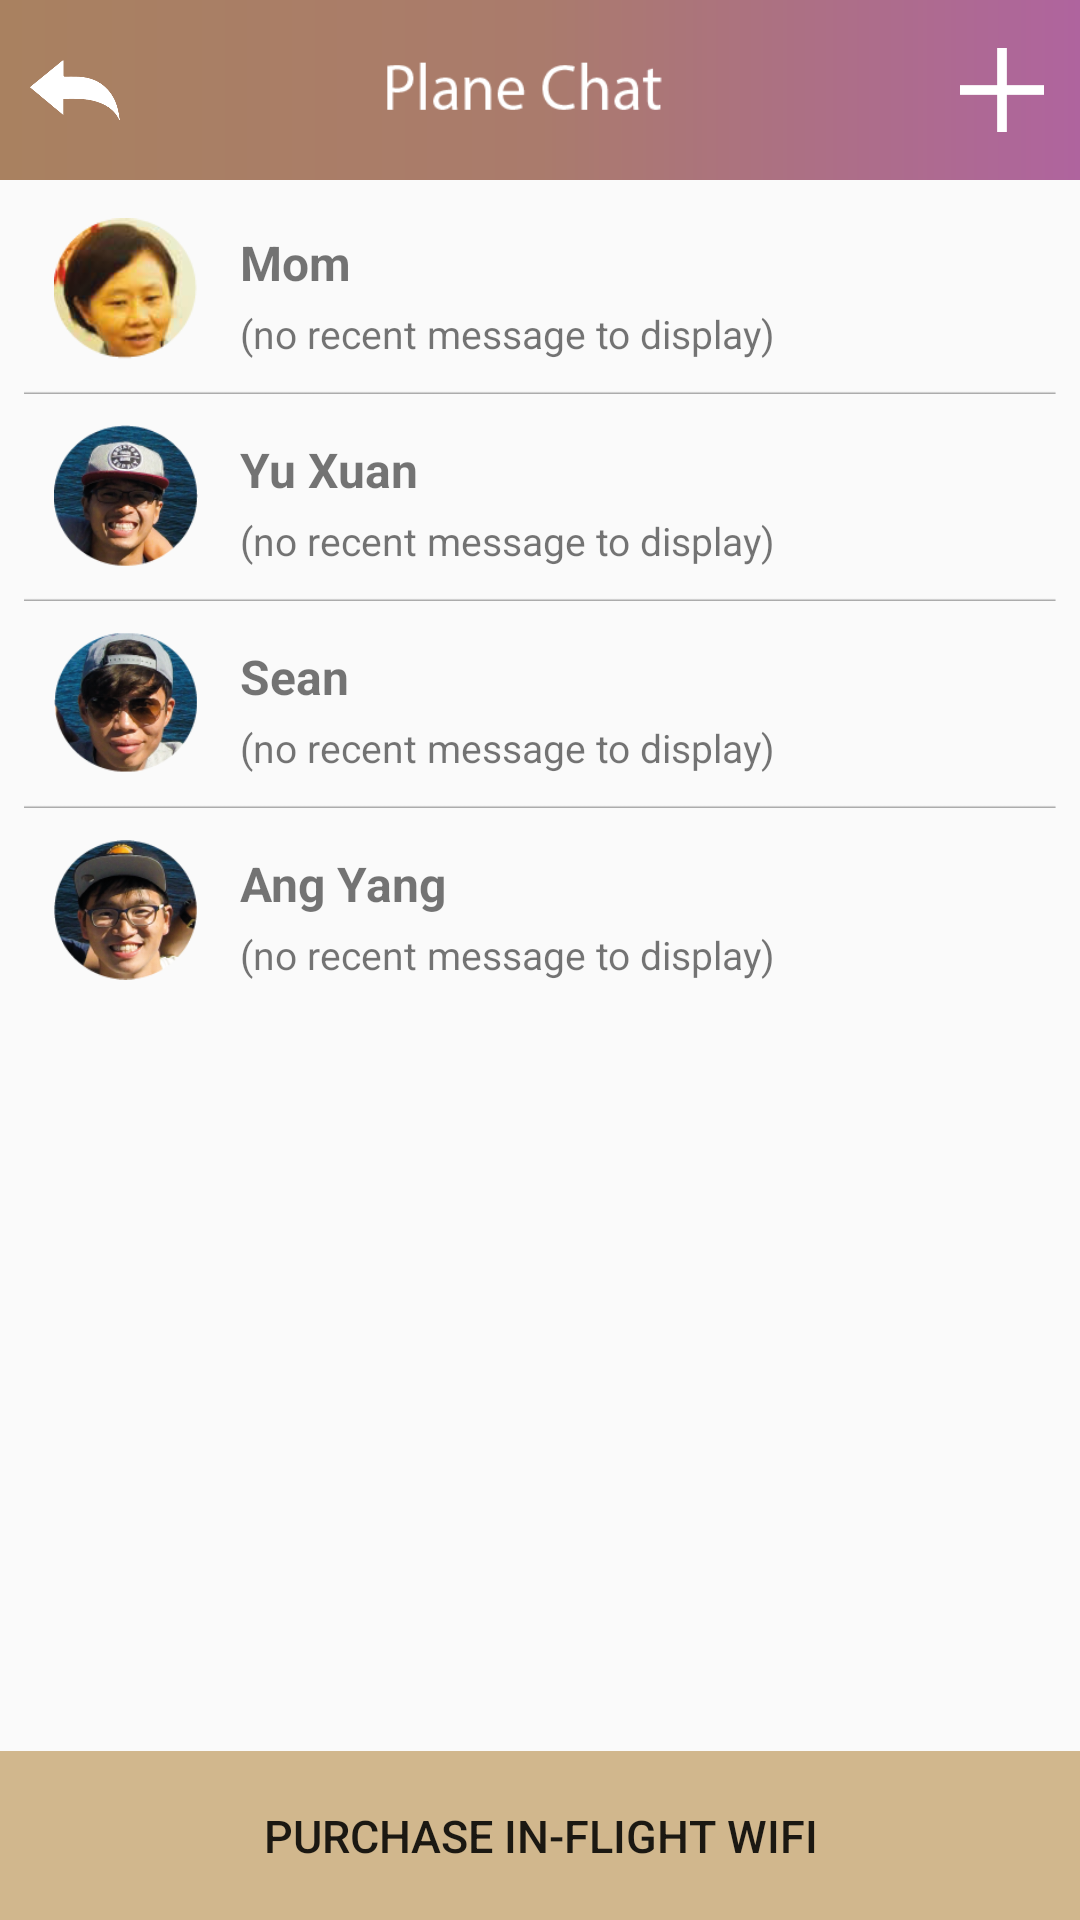

Icon bounding boxes for this 1080×1920 phone screenshot, format [x1, y1, x2, y2]:
addbutton: [960, 48, 1044, 132]
backwhite: [30, 60, 120, 120]
